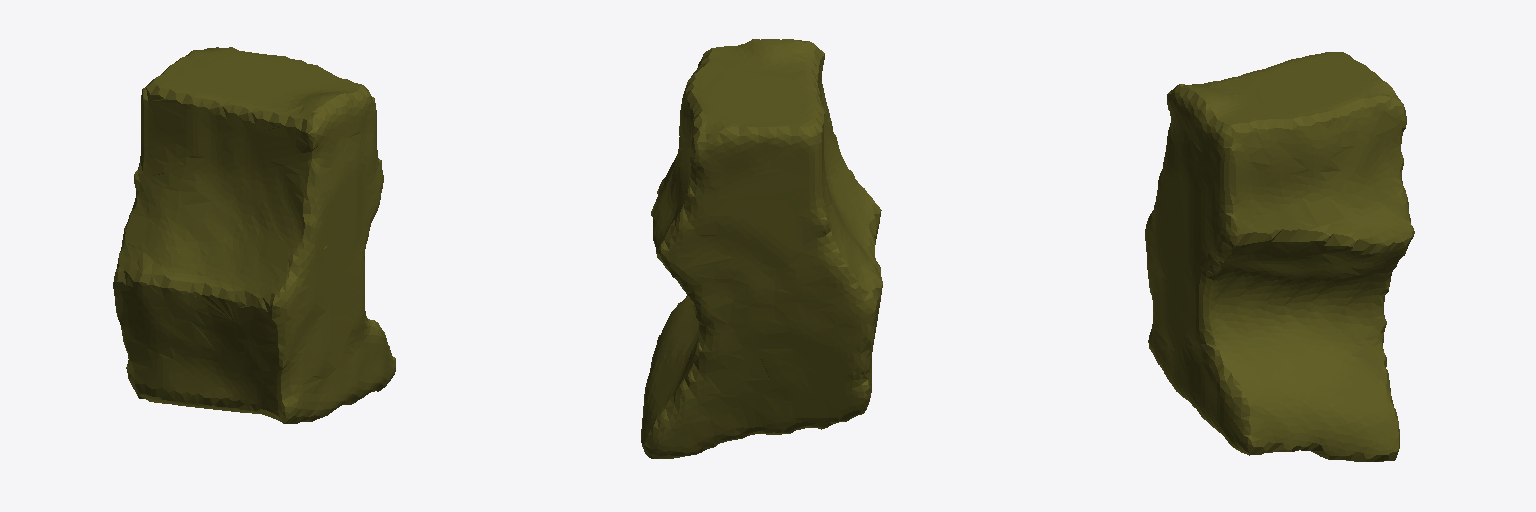
File: Model_96_RH__Lateral_intrapartietal_area_of_cortex_(LIP).obj
3 views of the same model, side by side, from view 1: azimuth 30°, elevation 25°; view 2: azimuth 150°, elevation 25°; view 3: azimuth 270°, elevation 25° (orthographic).
Bounding box in the file's own units: 3.24 × 4.42 × 3.02.